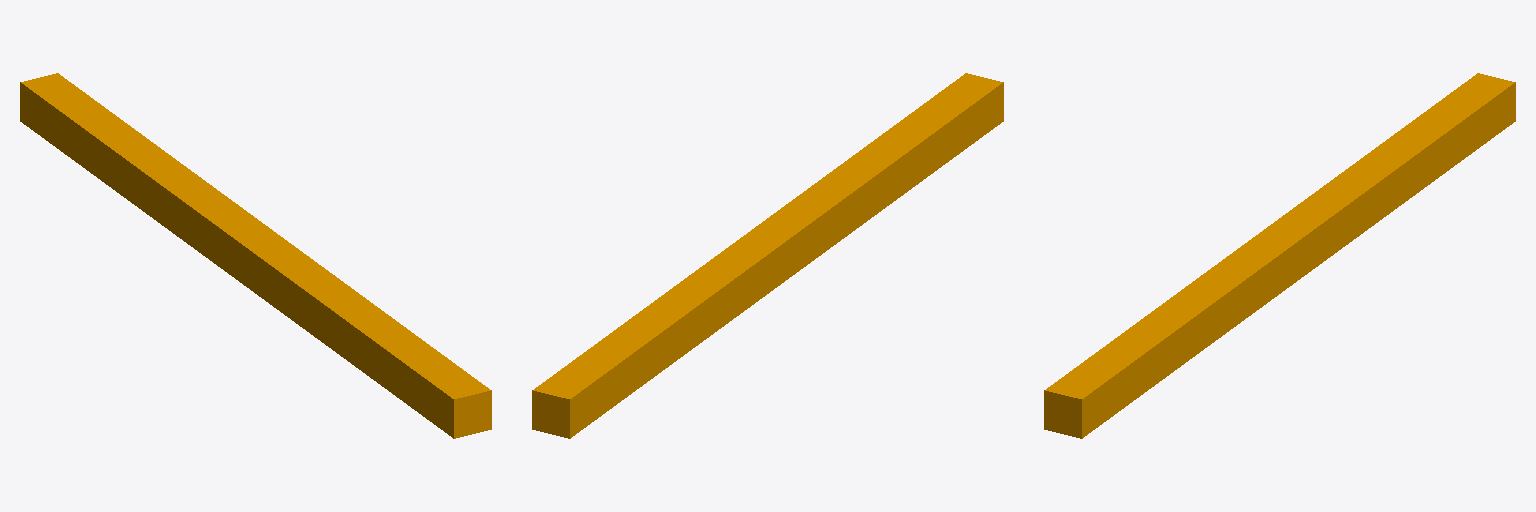
URDF robot description (simple_box):
<robot name="simple_box">
  <link name="my_box">
    <inertial>
      <origin xyz="1.5 0 3.7" />
      <mass value="1.0" />
      <inertia  ixx="1.0" ixy="0.0"  ixz="0.0"  iyy="1.0"  iyz="0.0"  izz="1.0" />
      <gravity>false</gravity>
      <static>true</static>
    </inertial>
    <visual>
      <origin xyz="1.5 0 3.7"/>
      <geometry>
        <box size="0.15 3 0.15" />
      </geometry>
    </visual>
    <collision>
      <origin xyz="1.5 0 3.7"/>
      <geometry>
        <box size="0.15 3 0.15" />
      </geometry>
    </collision>
          <velocity>0 0 0 0 -0 0</velocity>
          <acceleration>0 0 0 0 -0 0</acceleration>
          <wrench>0 0 0 0 -0 0</wrench>
  </link>
  <gazebo reference="my_box">
    <material>Gazebo/Yellow</material>
    <static>true</static>
    <turnGravityOff>true</turnGravityOff>
  </gazebo>
</robot>

--- Facts derived from the render (not from the file) ---
The picture shows the robot from 3 angles, left to right: view 1: azimuth 30°, elevation 25°; view 2: azimuth 150°, elevation 25°; view 3: azimuth 330°, elevation 25°; orthographic projection.
Robot: simple_box — 1 links, 0 joints (none); root link my_box; default pose: every joint at zero.
Links seen in each view (by area): view 1: my_box; view 2: my_box; view 3: my_box.
Link boxes in pixels (x1,y1,x2,y2): my_box: (20, 73, 491, 438); my_box: (532, 73, 1003, 438); my_box: (1044, 73, 1515, 438).
Size in the robot's own frame: 0.15 by 3 by 0.15 metres.
Geometry: primitives only (box / cylinder / sphere), no mesh files.